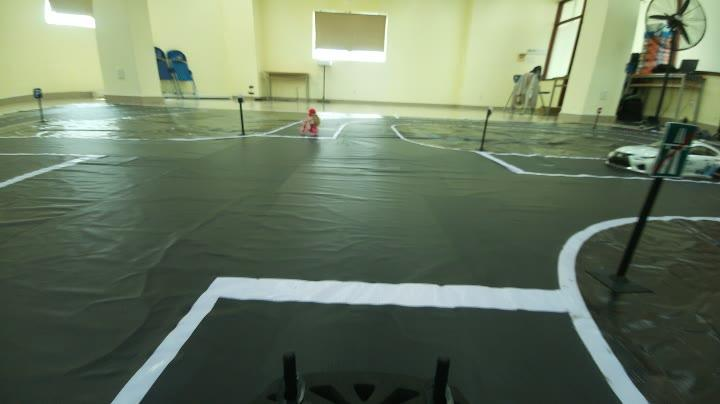highway_exit: (650, 116, 700, 182)
